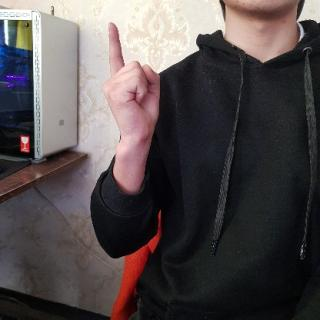RAA: (98, 17, 170, 153)
